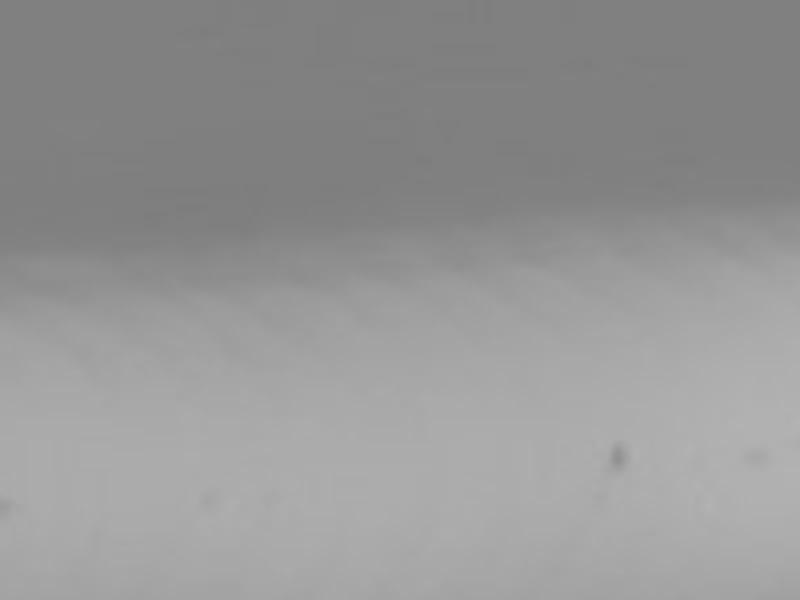defect: (606, 434, 626, 473), (193, 487, 223, 510), (744, 448, 773, 467)
